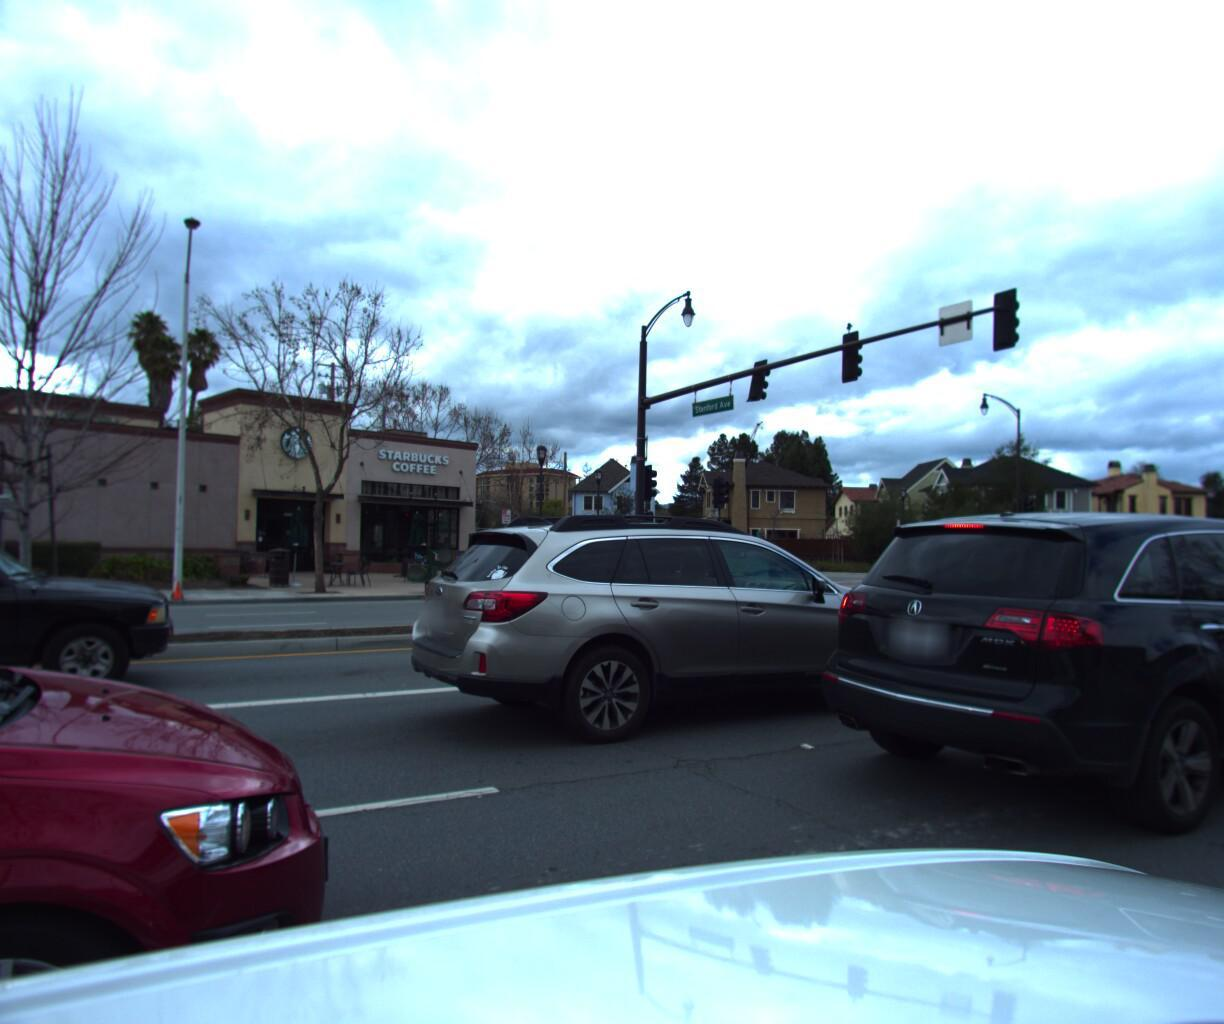car: (0, 303, 381, 1024), (782, 475, 1224, 885), (390, 497, 958, 764), (0, 455, 186, 740), (541, 520, 876, 668), (1209, 551, 1224, 625)
